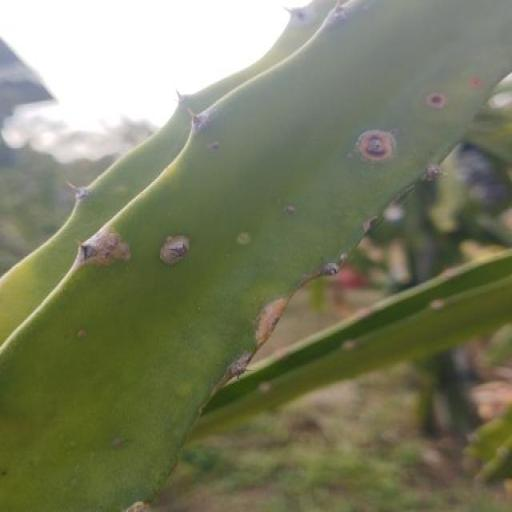stemcanker: (421, 82, 450, 118), (464, 64, 488, 98), (231, 223, 252, 252), (279, 193, 299, 223), (69, 322, 93, 344), (108, 436, 124, 453)
